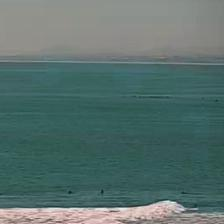surfer: (190, 204, 198, 209), (66, 190, 72, 195), (181, 191, 186, 195), (100, 189, 104, 194), (1, 192, 3, 196)
